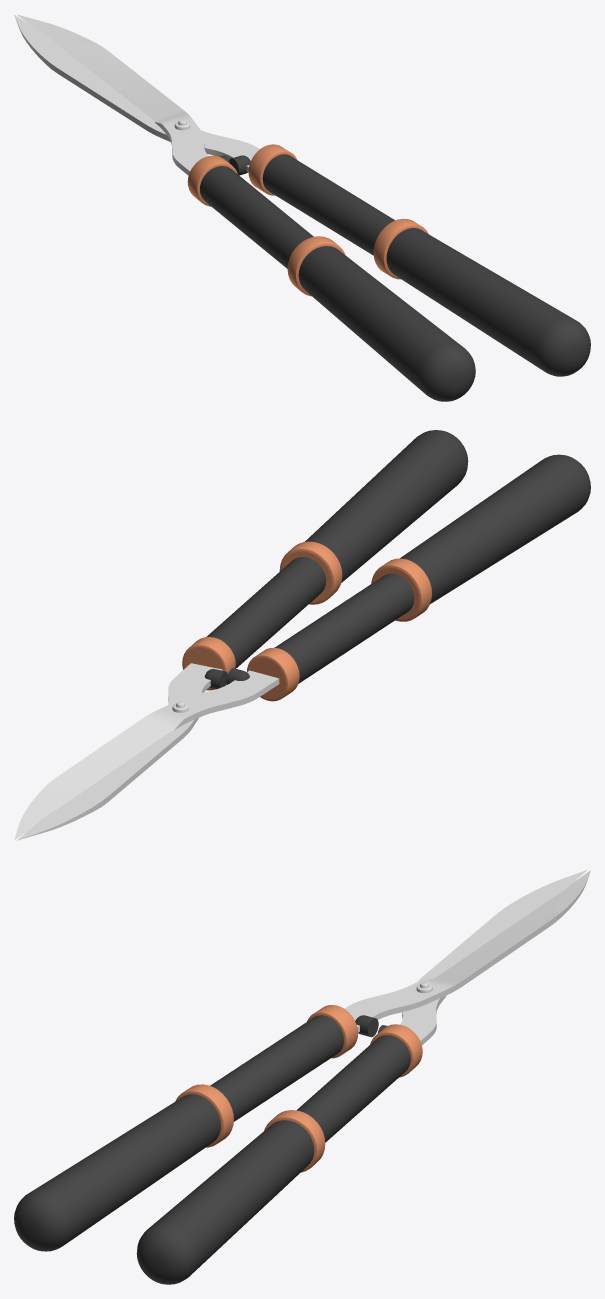
The model's file is ShearClose.fbx.
3 renders of one model, top to bottom at view 1: azimuth 30°, elevation 25°; view 2: azimuth 150°, elevation 25°; view 3: azimuth 330°, elevation 25°, orthographic. The views are drawn at different scales.
Visible parts, largest first — view 1: Shears, Shears.005, Shears.001, Shears.006, Shears.007, Shears.002; view 2: Shears.005, Shears, Shears.006, Shears.007, Shears.001, Shears.002; view 3: Shears.005, Shears, Shears.006, Shears.001, Shears.007, Shears.002.
Part boxes in pixels (<box>): Shears: <box>373,218,590,376</box>; Shears.005: <box>287,236,475,401</box>; Shears.001: <box>248,144,394,255</box>; Shears.006: <box>187,155,313,268</box>; Shears.007: <box>17,14,208,175</box>; Shears.002: <box>14,15,259,172</box>; Shears.005: <box>371,454,590,621</box>; Shears: <box>279,430,468,604</box>; Shears.006: <box>247,573,414,701</box>; Shears.007: <box>14,670,279,840</box>; Shears.001: <box>182,557,326,690</box>; Shears.002: <box>16,663,222,840</box>; Shears.005: <box>14,1084,233,1251</box>; Shears: <box>136,1110,325,1284</box>; Shears.006: <box>210,1005,358,1121</box>; Shears.001: <box>297,1024,422,1142</box>; Shears.007: <box>344,870,590,1032</box>; Shears.002: <box>400,869,587,1045</box>.
Bounding box in the file's own units: 30.07 × 10.02 × 151.
